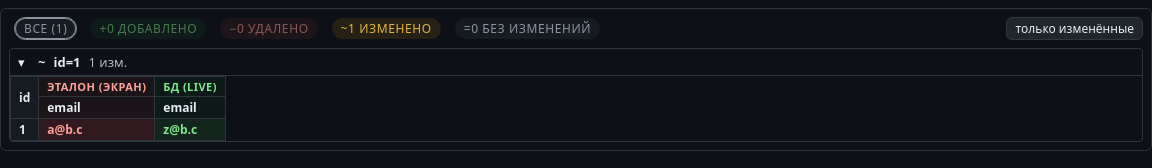
Test: RowDiffView › toggles between changed-only and all columns
The image size is (1152, 168).
expect the text "name" is not shown: met
Click the button "только изменённые" at (1075, 28), box [1006, 17, 1143, 40]
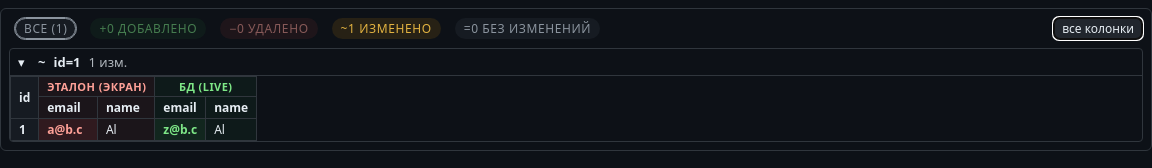
expect the number of column headings "name" is 2: met, box [98, 96, 155, 118]; [206, 96, 257, 118]
